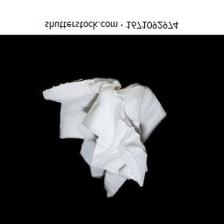tissue: (37, 73, 172, 202)
